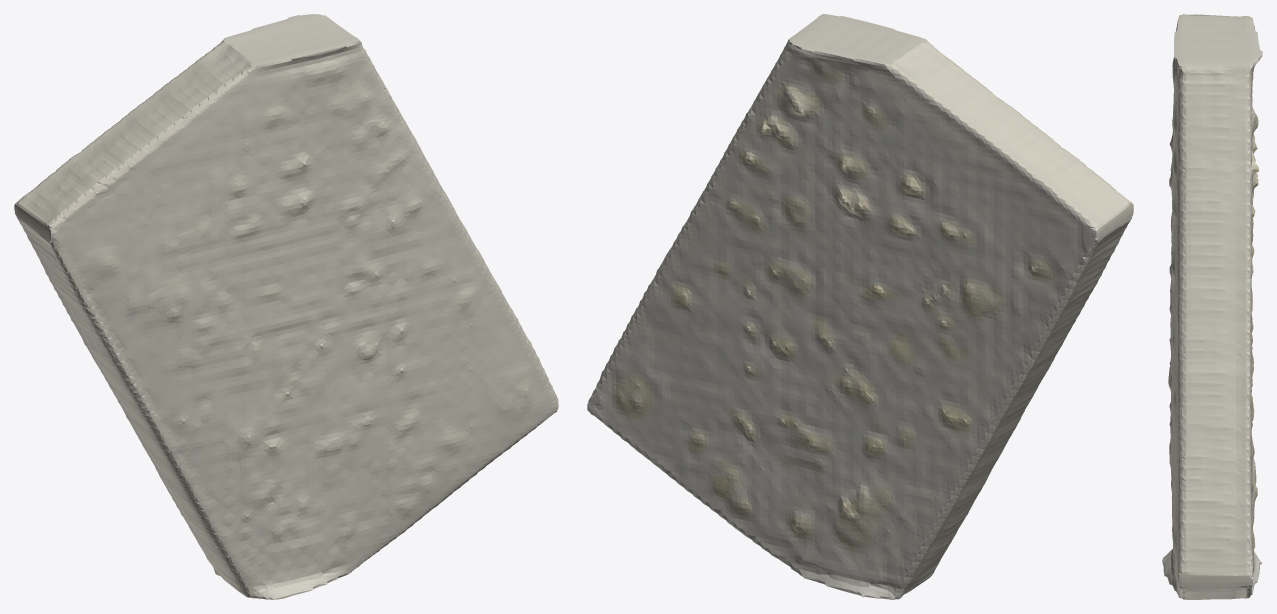
The model's file is fish.glb.
3 views of the same model, side by side, from view 1: azimuth 30°, elevation 25°; view 2: azimuth 150°, elevation 25°; view 3: azimuth 270°, elevation 25° (orthographic).
Parts seen in each view (by area): view 1: geometry_0; view 2: geometry_0; view 3: geometry_0.
Part boxes in pixels (x1,y1,x2,y2): geometry_0: (14,14,558,599); geometry_0: (587,14,1133,599); geometry_0: (1162,14,1262,599).
Size of the model in its own units: 1.97 by 1.97 by 0.3335.
